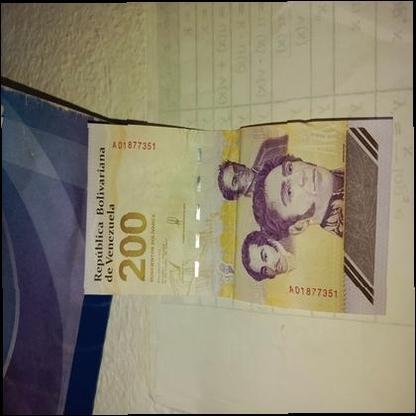two_hundred-front-vef: (84, 118, 394, 315)
